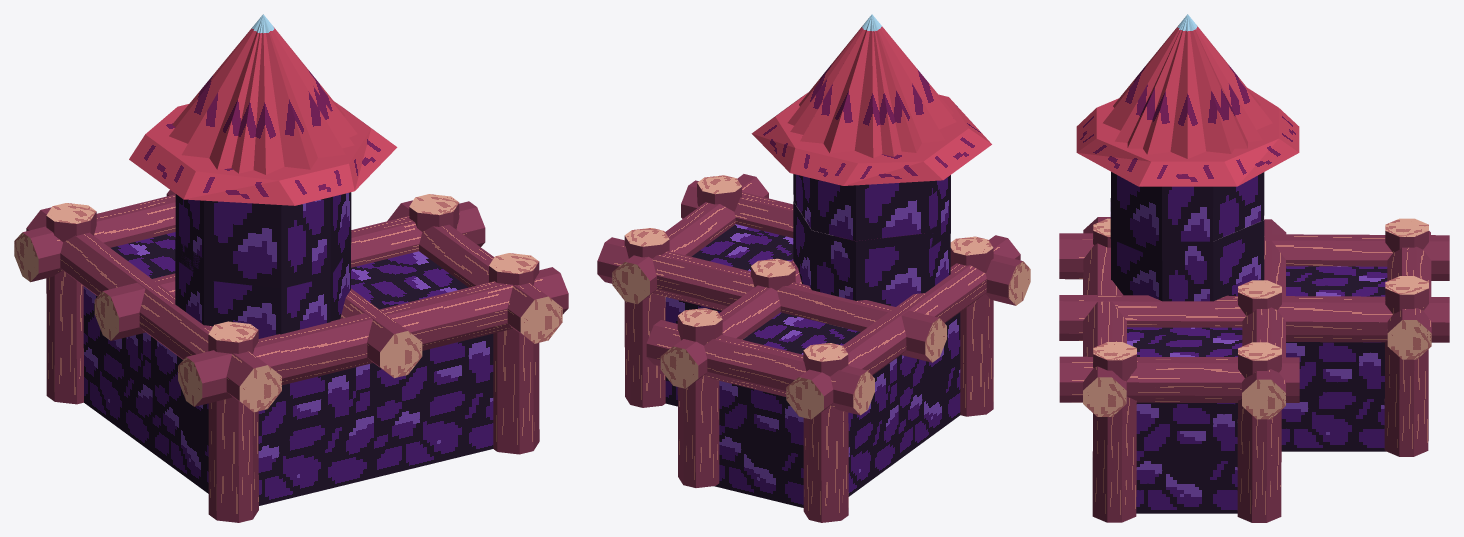
Rendered from CasaGrande.gltf.
The picture shows the model from 3 angles, left to right: view 1: azimuth 30°, elevation 25°; view 2: azimuth 150°, elevation 25°; view 3: azimuth 270°, elevation 25°; orthographic projection. The views are drawn at different scales.
Bounding box in the file's own units: 5.29 × 6.15 × 5.34.
Materials: 1 (1 with a texture image).
